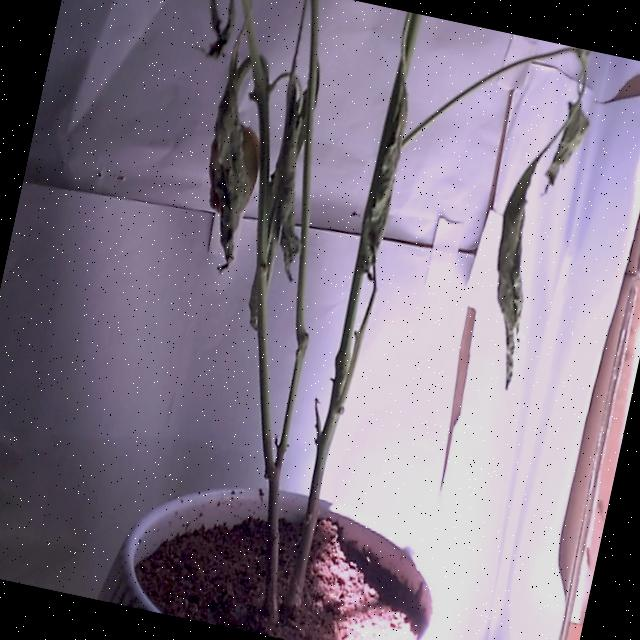Leaf: (466, 137, 563, 394), (345, 15, 430, 295), (184, 51, 278, 270), (248, 71, 334, 283), (542, 100, 592, 194)
